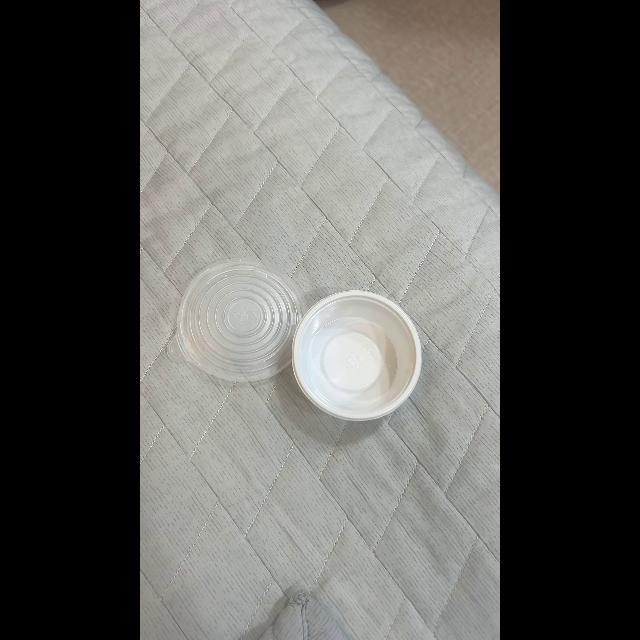clean: (291, 290, 423, 420), (176, 265, 304, 375)
